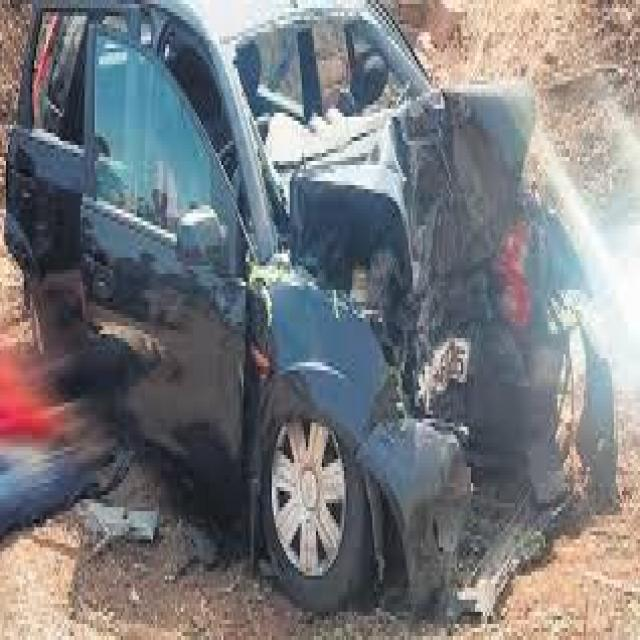accident: (24, 14, 586, 591)
